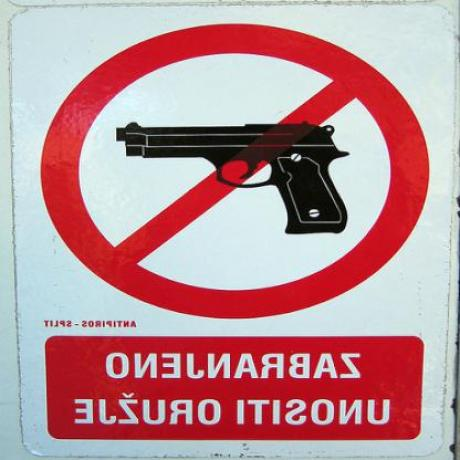weapon: (115, 112, 359, 238)
